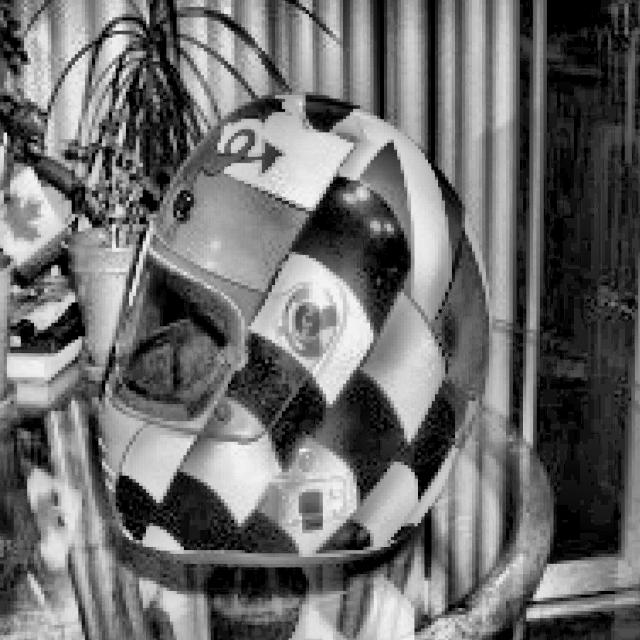Helmet: (87, 80, 505, 586)
